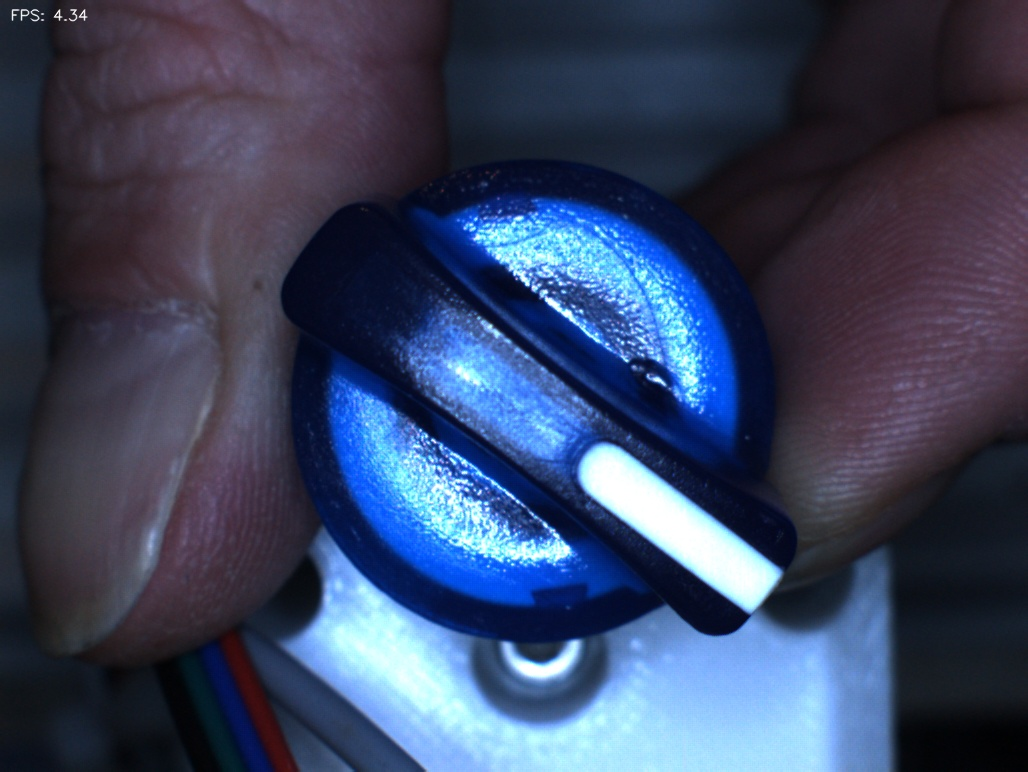Choc: (609, 338, 693, 422)
